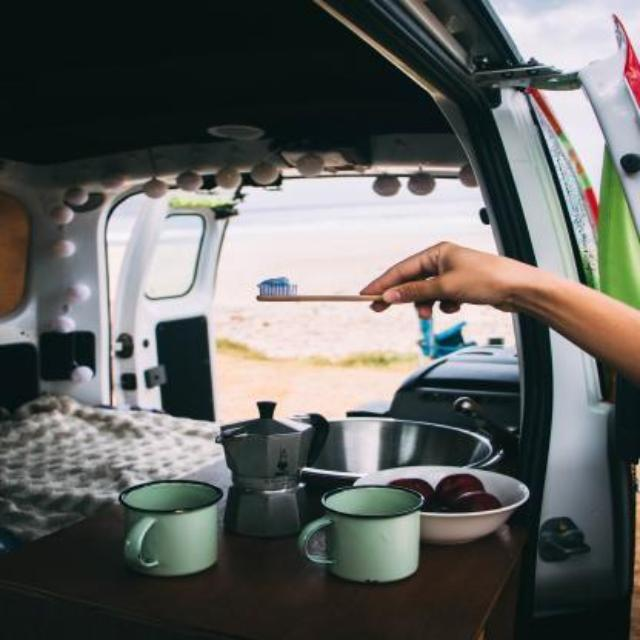toothbrush: (248, 273, 392, 317)
